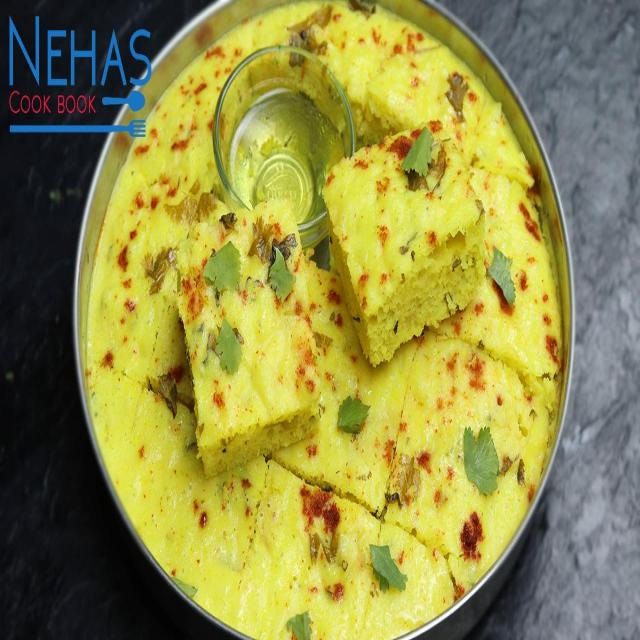dhokla: (79, 13, 572, 640)
